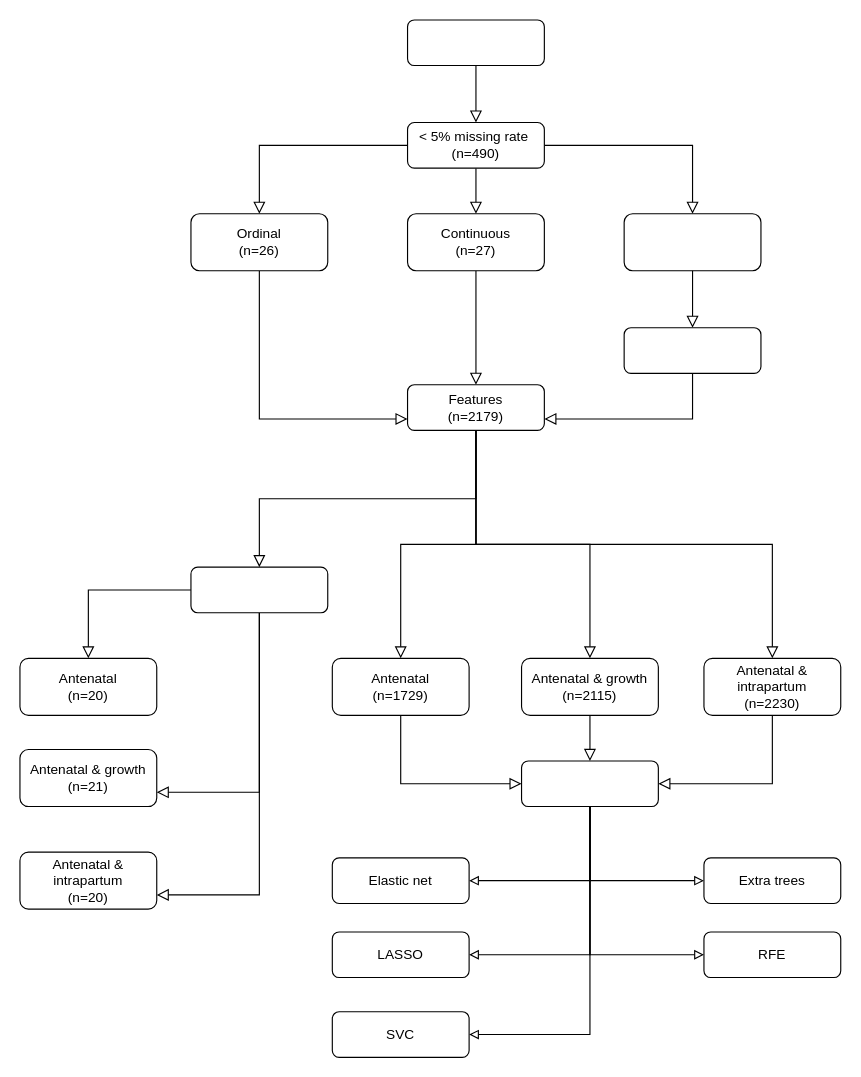
This 861x1077 diagram has some shape labels left out. Each missing label, with the centre of its shape:
All features (n=518): the point at 475,42
Automated feature selection: the point at 589,783
Badawi et al (n=35): the point at 259,589
One-hot encoding (n=2126): the point at 692,350
Unordered categorical (n=437): the point at 692,242
